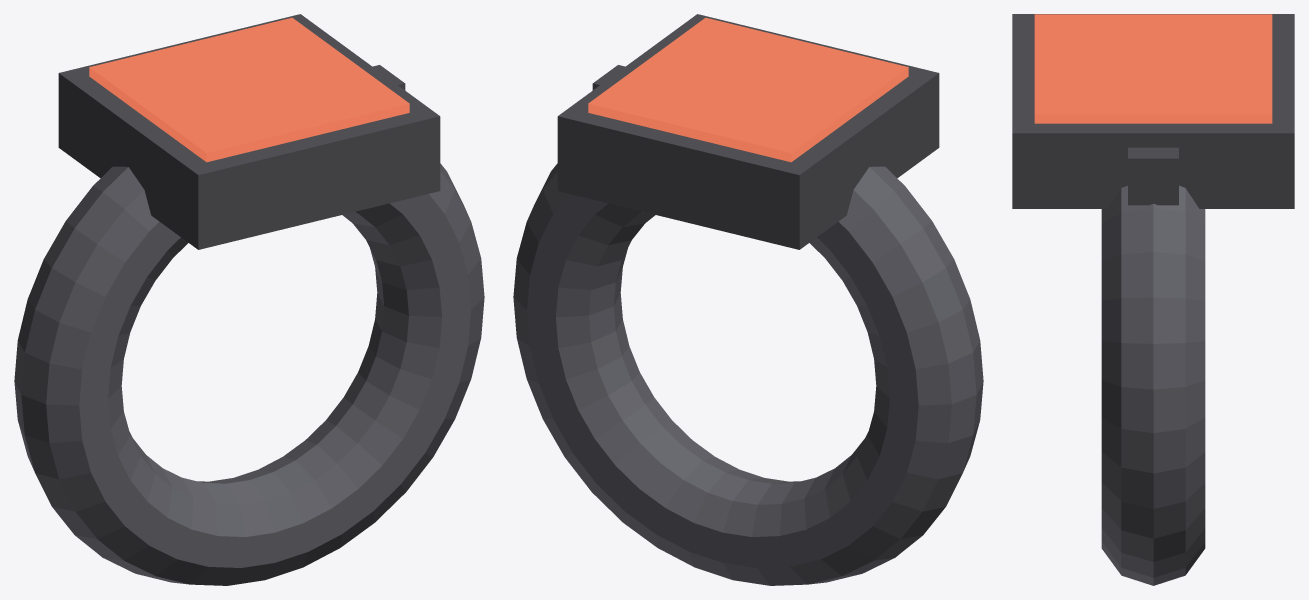
The model's file is Watch.fbx.
3 renders of one model, left to right at view 1: azimuth 30°, elevation 25°; view 2: azimuth 150°, elevation 25°; view 3: azimuth 270°, elevation 25°, orthographic.
Parts seen in each view (by area): view 1: Watch_Band, Watch_Case, Watch_Screen; view 2: Watch_Band, Watch_Case, Watch_Screen; view 3: Watch_Band, Watch_Screen, Watch_Case, Watch_Crown.
Boxes of the visible parts, x1,y1,x2,y2 form: Watch_Band: (14, 163, 484, 585); Watch_Case: (58, 14, 440, 249); Watch_Screen: (89, 17, 409, 162); Watch_Band: (513, 163, 983, 585); Watch_Case: (557, 14, 939, 249); Watch_Screen: (588, 17, 908, 162); Watch_Band: (1101, 185, 1205, 585); Watch_Screen: (1034, 14, 1272, 123); Watch_Case: (1012, 14, 1294, 208); Watch_Crown: (1128, 147, 1178, 205).
Size of the model in its own units: 8.3 by 8.56 by 4.4.
